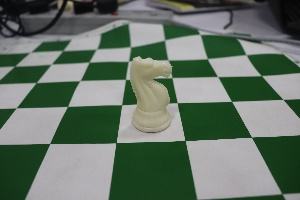white_horse: (121, 46, 181, 140)
